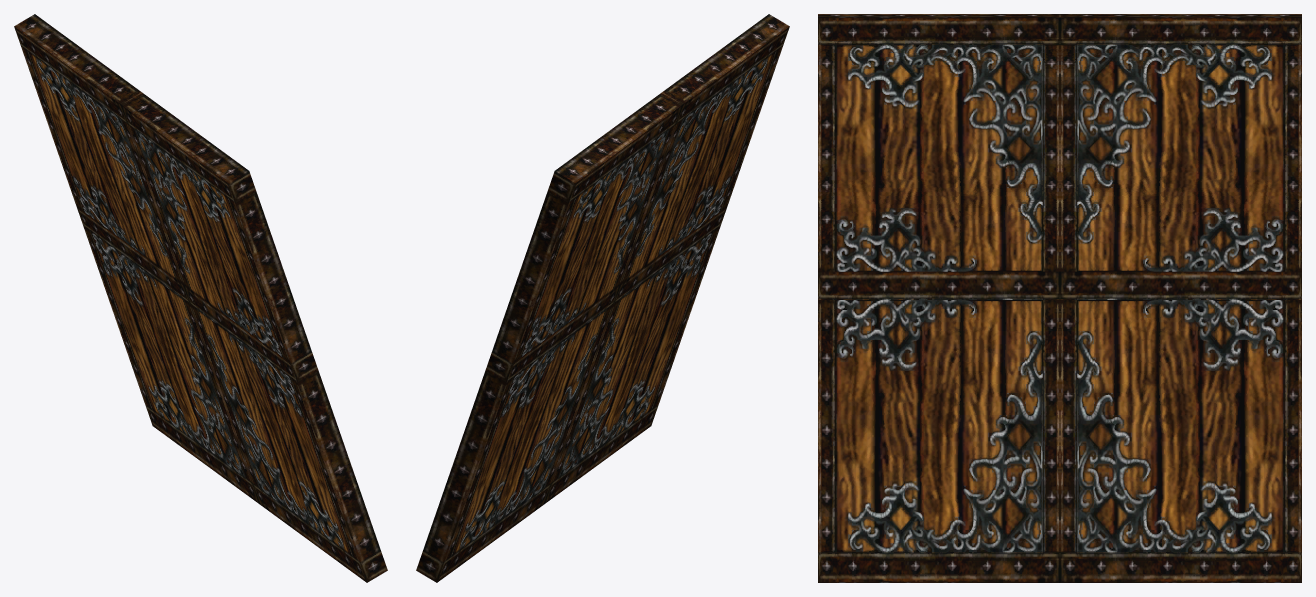
File: ANIMATEDINSTANCES_D_BRIDGE_01__AI.fbx
3 renders of one model, left to right at view 1: azimuth 30°, elevation 25°; view 2: azimuth 150°, elevation 25°; view 3: azimuth 270°, elevation 25°, orthographic. The views are drawn at different scales.
Parts seen in each view (by area): view 1: ANIMATEDINSTANCES_D_BRIDGE_01__AI; view 2: ANIMATEDINSTANCES_D_BRIDGE_01__AI; view 3: ANIMATEDINSTANCES_D_BRIDGE_01__AI.
Boxes of the visible parts, x1,y1,x2,y2 form: ANIMATEDINSTANCES_D_BRIDGE_01__AI: (14, 14, 387, 582); ANIMATEDINSTANCES_D_BRIDGE_01__AI: (416, 14, 789, 582); ANIMATEDINSTANCES_D_BRIDGE_01__AI: (818, 14, 1301, 582).
Bounding box in the file's own units: 14897 × 39344 × 34680.
Materials: 1 (1 with a texture image).
